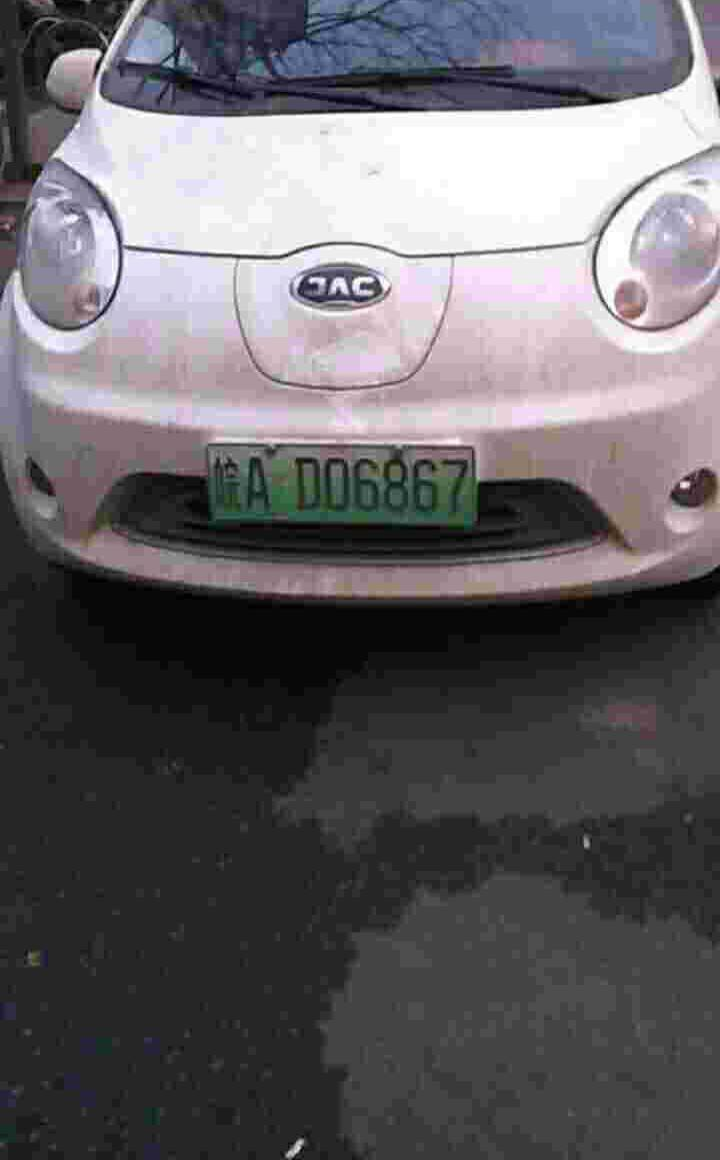car_green: (204, 434, 477, 537)
